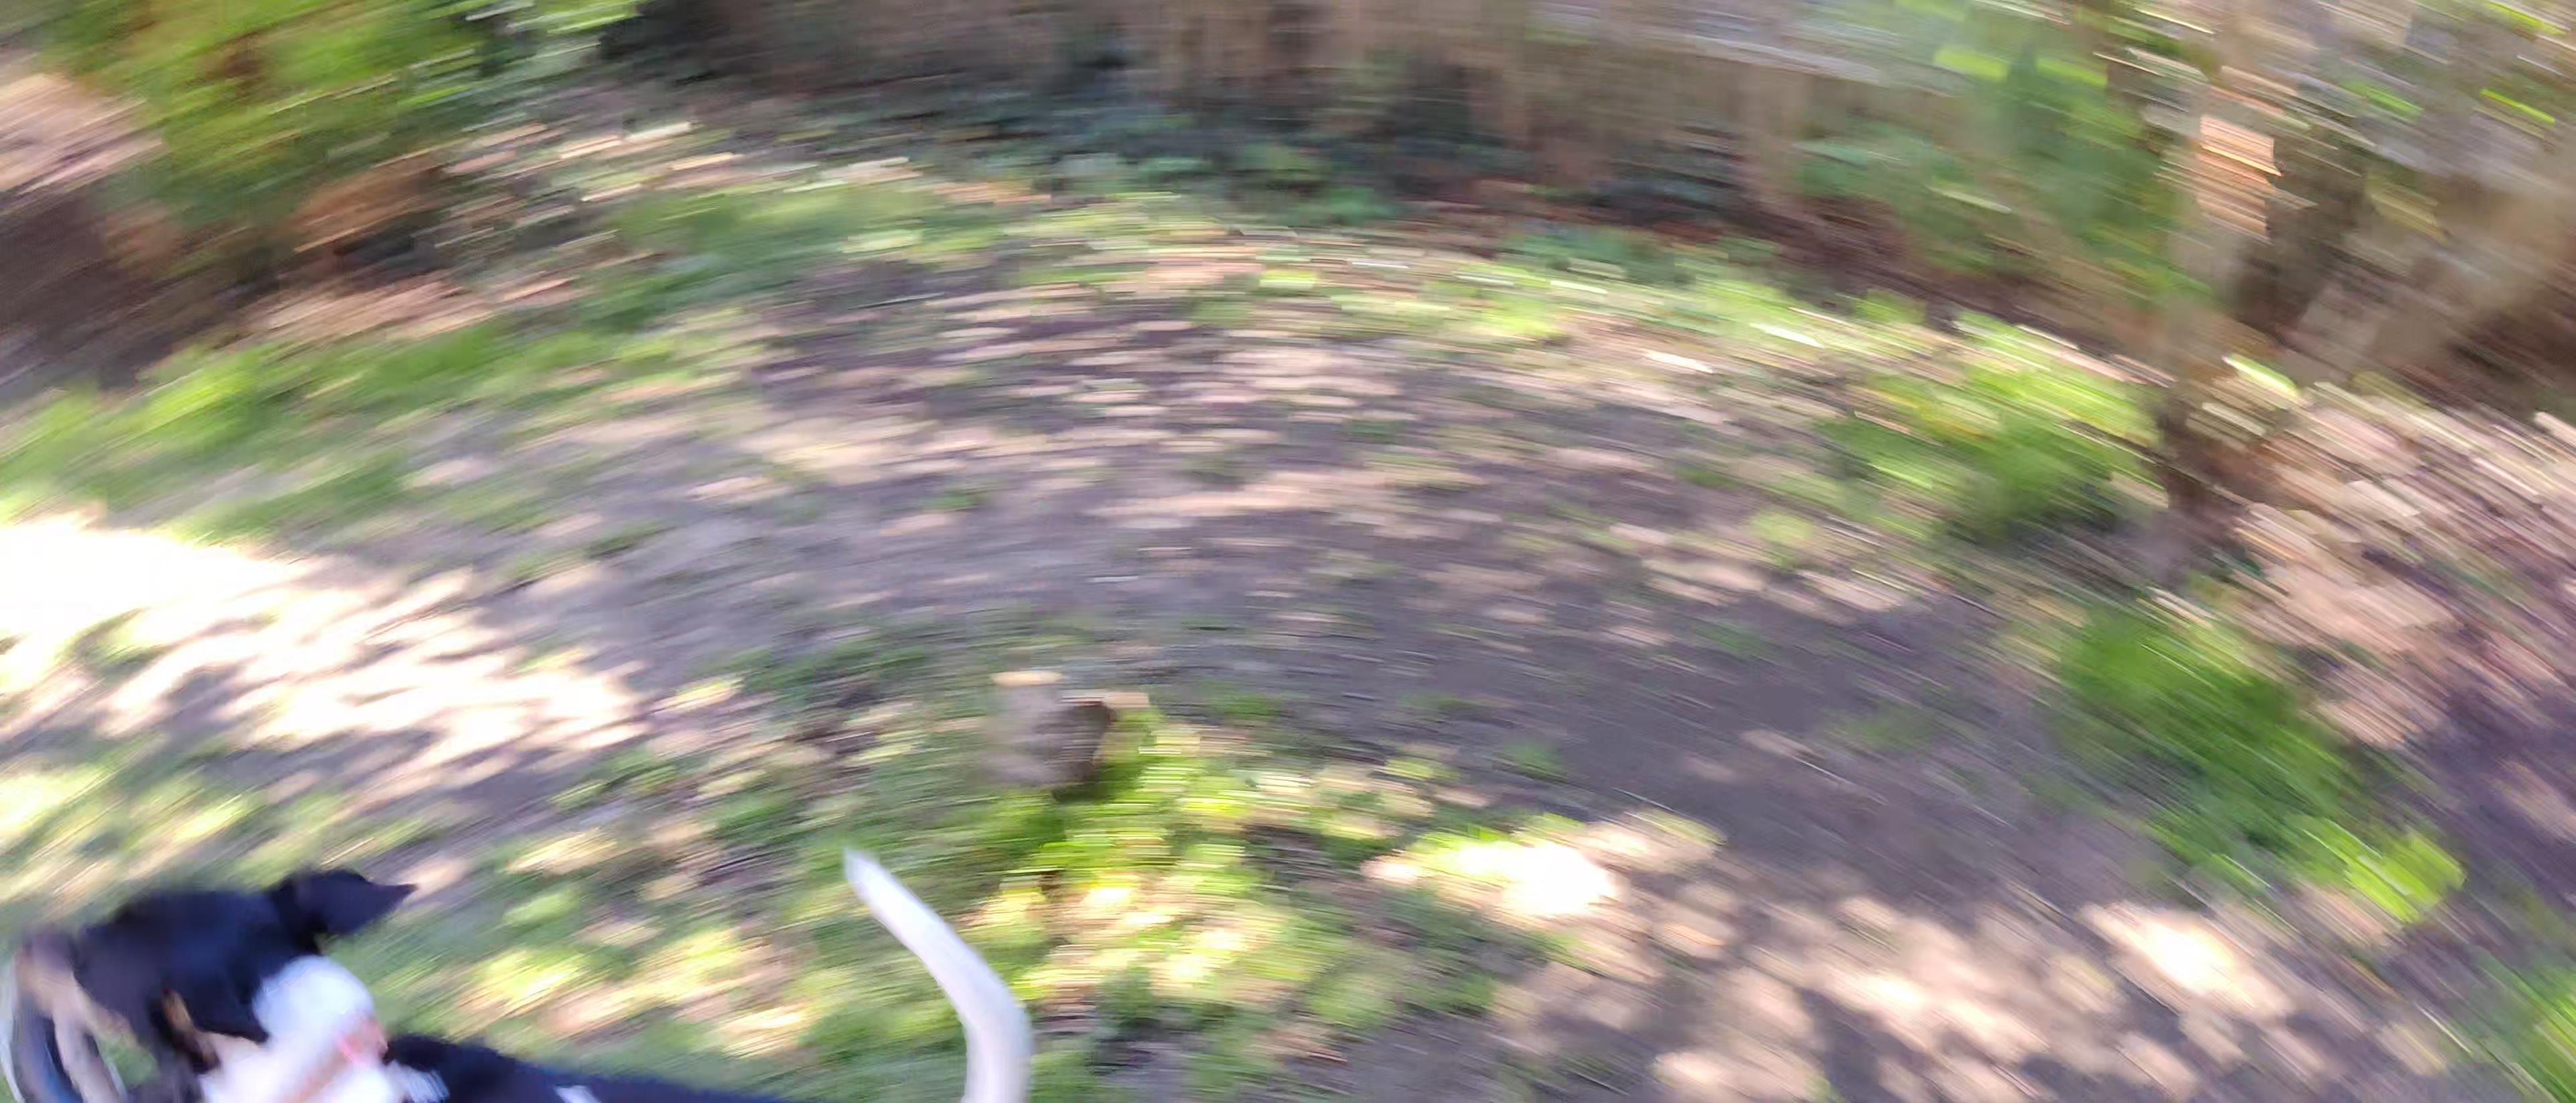Dog: (10, 835, 1050, 1103)
